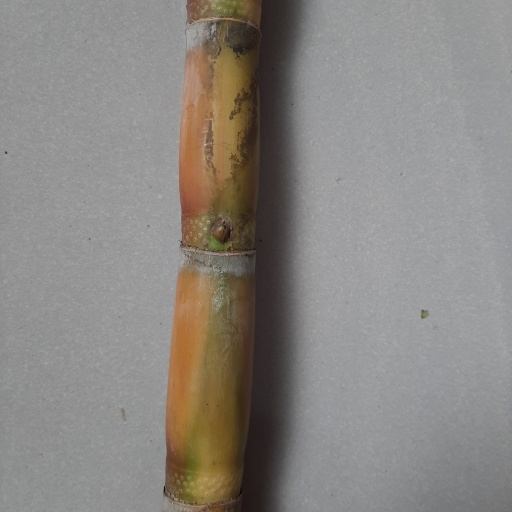Bud: (209, 221, 232, 246)
